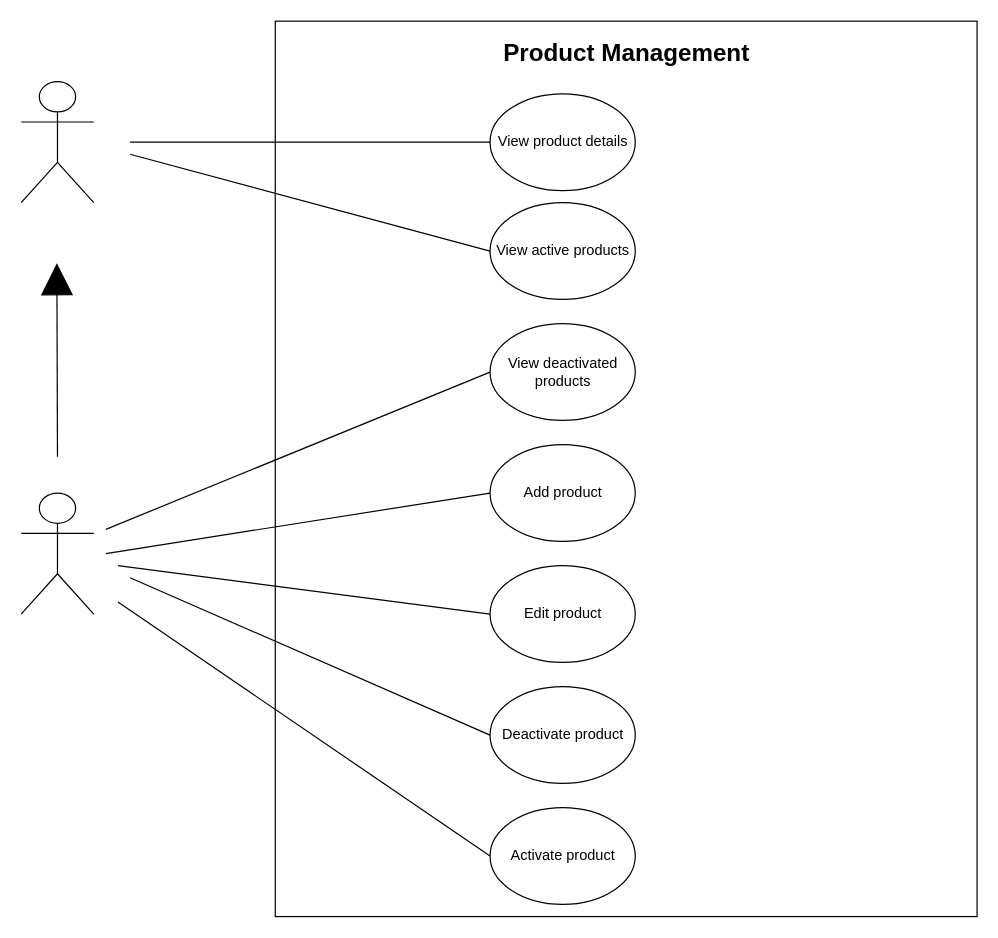
Image size: 998x938. Some labels were removed from this diagram. The centre of each missing label's shape, as x and y in pixels:
"Admin" belongs at (x=57, y=553).
"Staff" belongs at (x=57, y=141).
